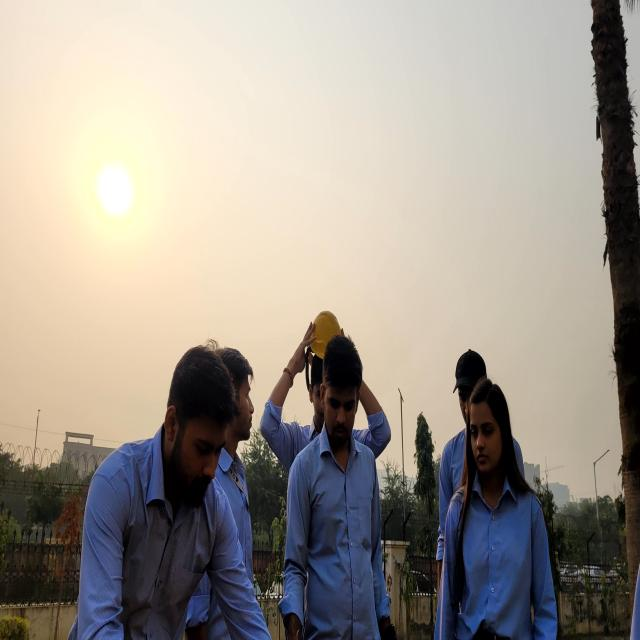unsafe: (71, 352, 242, 633), (433, 383, 562, 638), (287, 334, 386, 640)
